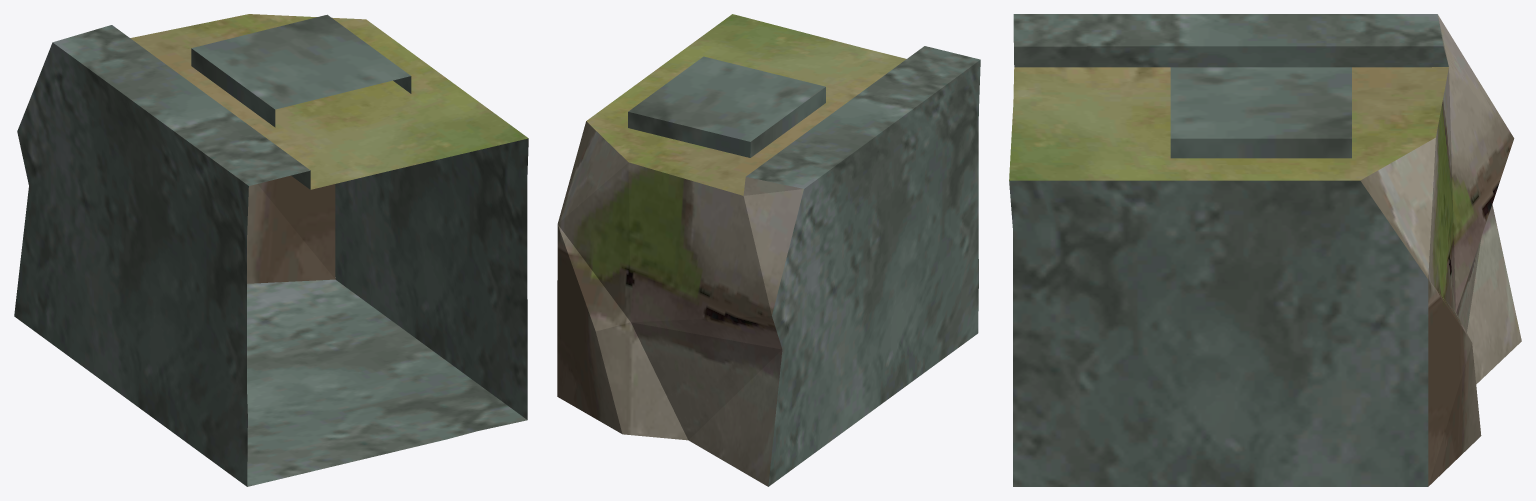
Rendered from shitouyiji_02.FBX.
3 views of the same model, side by side, from view 1: azimuth 30°, elevation 25°; view 2: azimuth 150°, elevation 25°; view 3: azimuth 270°, elevation 25° (orthographic). The views are drawn at different scales.
Visible parts, largest first — view 1: shitouyiji_02; view 2: shitouyiji_02; view 3: shitouyiji_02.
Part boxes in pixels (box(x1,y1,x2,y2)): shitouyiji_02: box(14, 14, 528, 486); shitouyiji_02: box(557, 14, 980, 486); shitouyiji_02: box(1009, 14, 1521, 486).
Size of the model in its own units: 53.43 by 55.54 by 78.85.
